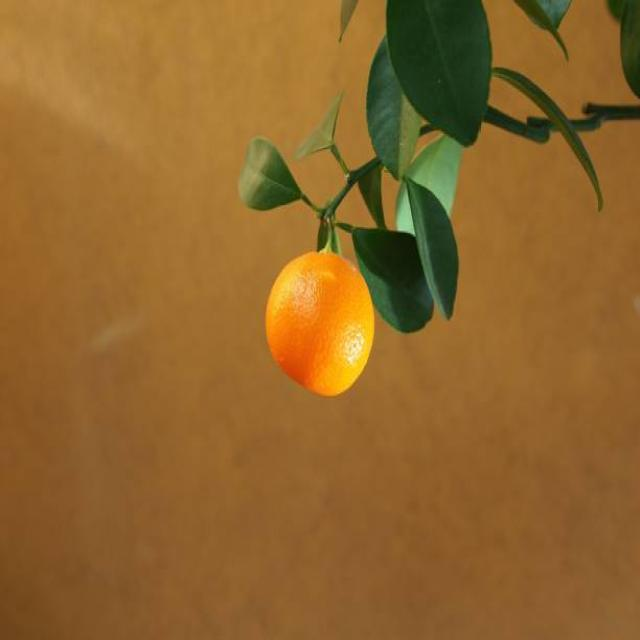Ripe: (264, 250, 380, 404)
